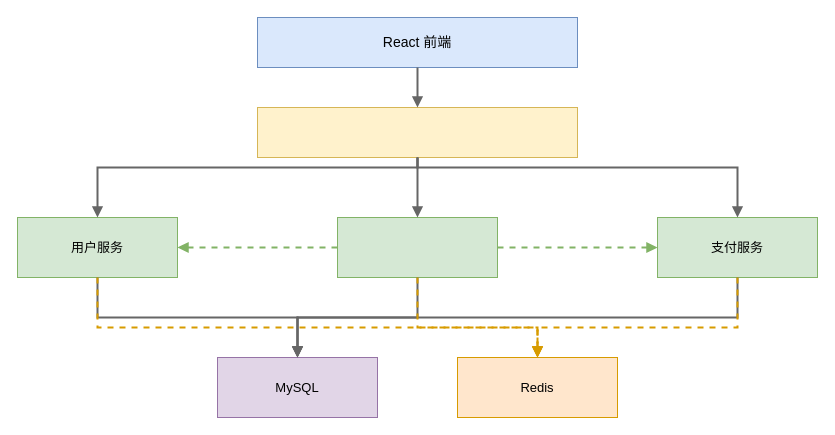
Image size: 835x435. Some labels were removed from this diagram. The shapes that lost their labels are listed below. From the top down, each one's centre as x and y in pixels, then its label:
point (417, 132): Nginx 网关
point (417, 247): 订单服务
